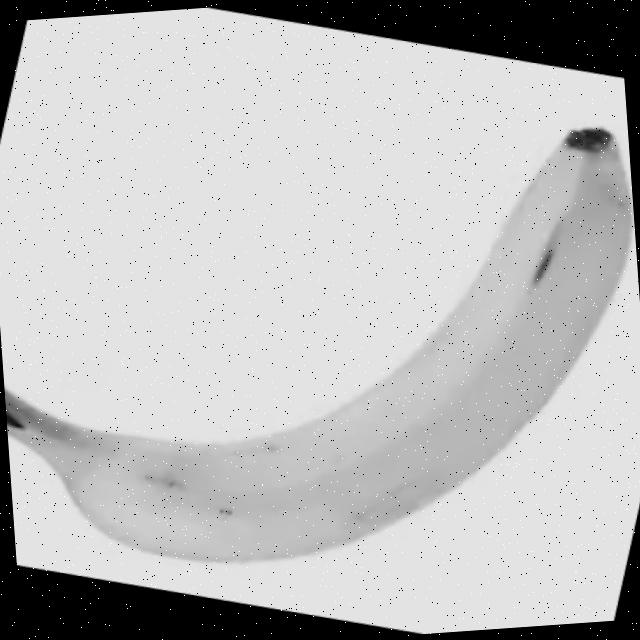banana: (0, 120, 640, 578)
